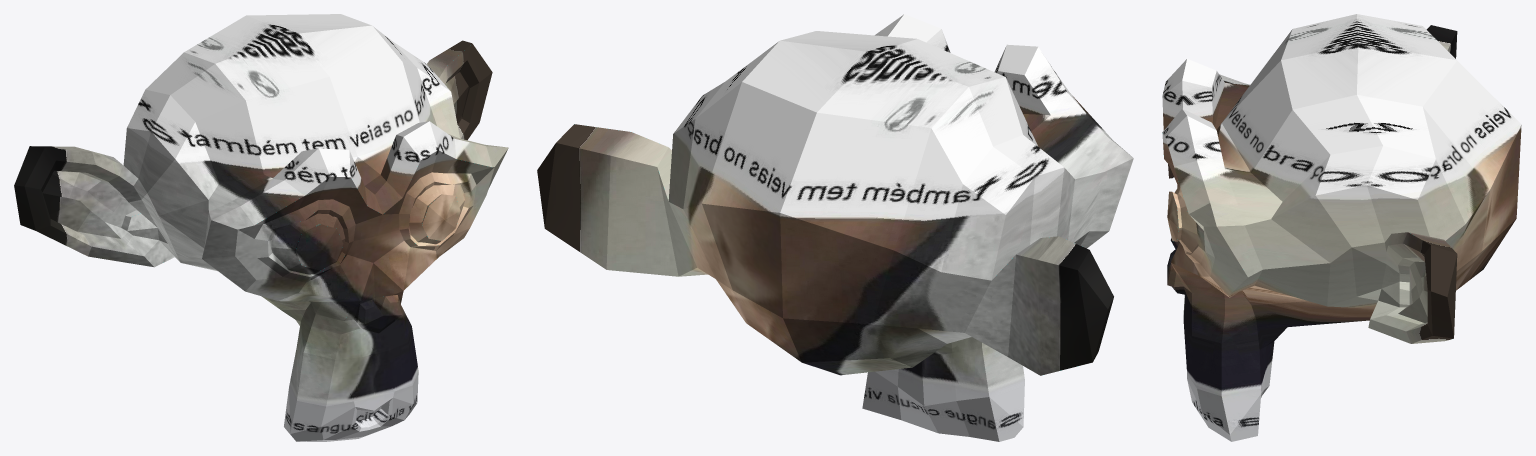
3 renders of one model, left to right at view 1: azimuth 30°, elevation 25°; view 2: azimuth 150°, elevation 25°; view 3: azimuth 270°, elevation 25°, orthographic. The views are drawn at different scales.
Visible parts, largest first — view 1: Suzanne; view 2: Suzanne; view 3: Suzanne.
Part boxes in pixels (left/top/right/bottom): Suzanne: left=14, top=14, right=508, bottom=441; Suzanne: left=537, top=14, right=1133, bottom=441; Suzanne: left=1162, top=14, right=1521, bottom=441.
Size of the model in its own units: 2.73 by 1.97 by 1.7.
2 materials, 1 textured.
